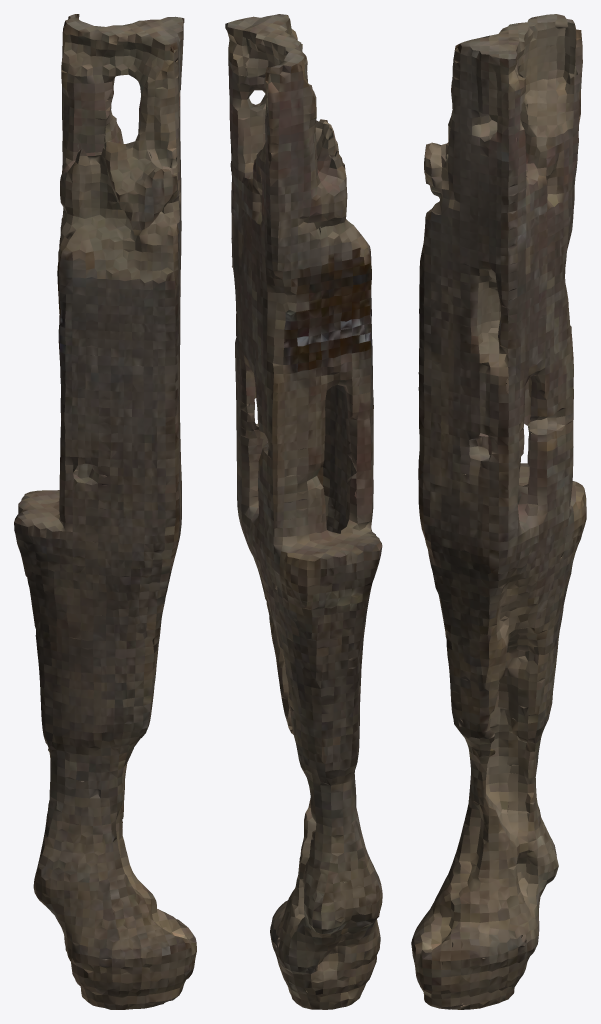
File: peg-leg.glb
3 views of the same model, side by side, from view 1: azimuth 30°, elevation 25°; view 2: azimuth 150°, elevation 25°; view 3: azimuth 270°, elevation 25° (orthographic). The views are drawn at different scales.
Bounding box in the file's own units: 36.21 × 205 × 33.26.
Materials: 1 (1 with a texture image).
